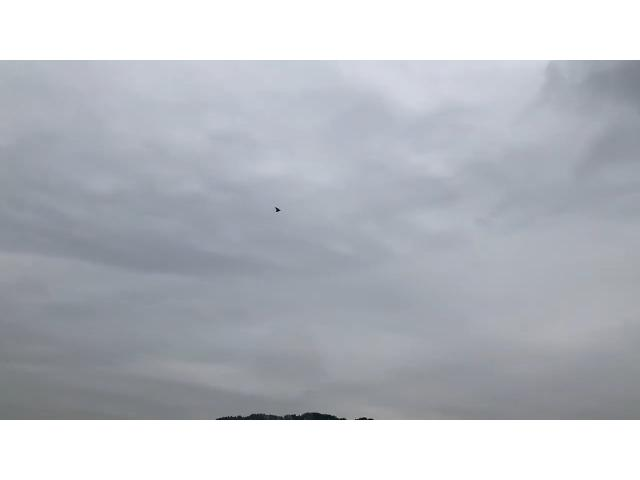Anti-Drone: (266, 202, 288, 218)
